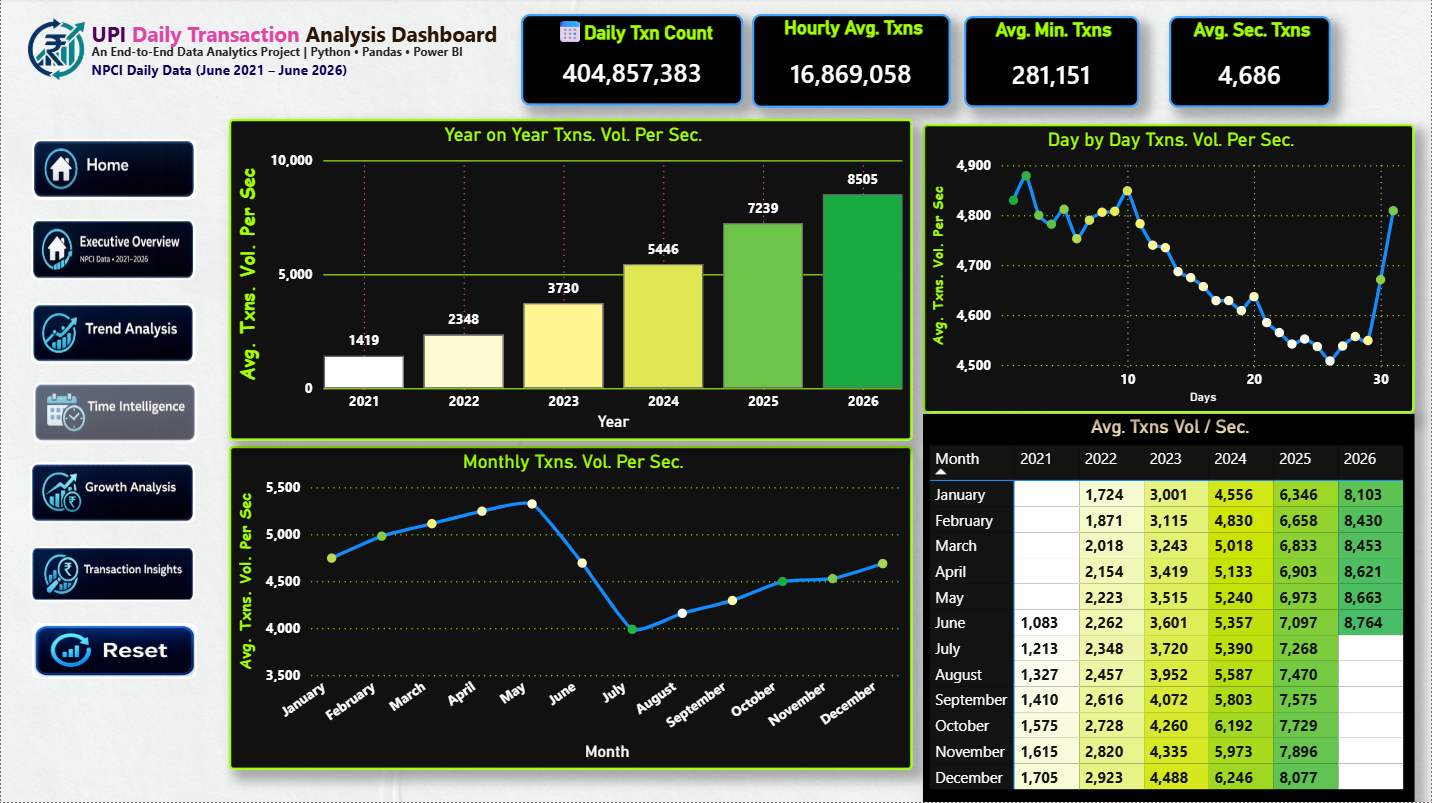

What the dashboard file says about the page in this screenshot:
{"tool":"powerbi","page":{"name":"🕒 Time Intelligence","canvas":[1280,720],"ordinal":2},"visuals":[{"type":"group","id":"g1","title":"Group 1","box":[55.4,14.4,409.1,63.9],"z":0},{"type":"textbox","box":[55.4,14.4,409.1,38.1],"z":0,"group":"g1"},{"type":"image","box":[6.2,14.4,86,65.1],"z":1000},{"type":"textbox","box":[75.7,33.4,368,44.8],"z":1000,"group":"g1"},{"type":"actionButton","box":[27,198.2,147.5,55],"z":2000},{"type":"actionButton","box":[28.1,126.2,147.5,55],"z":3000},{"type":"actionButton","box":[26.5,273.5,147.5,55],"z":4000},{"type":"actionButton","box":[28.6,343.5,147.5,55],"z":5000},{"type":"actionButton","box":[26.1,490.4,147.5,50],"z":6000},{"type":"actionButton","box":[28.1,559.4,147.5,50],"z":7000},{"type":"actionButton","box":[25.7,415.4,148.1,55],"z":8000},{"type":"textbox","box":[308.8,618.1,662.5,101.9],"z":9000},{"type":"textbox","box":[399.4,215,659.4,228.1],"z":10000},{"type":"cardVisual","title":"📅Daily Txn Count","fields":{"Data":["UPI_Daily_Statistics_Clean.Avg. Daily Transactions"]},"box":[465.5,14,199.2,81.9],"z":11000},{"type":"cardVisual","title":"Hourly Avg. Txns","fields":{"Data":["UPI_Daily_Statistics_Clean.Avg. Hourly Transactions"]},"box":[672.1,14.6,178,83.6],"z":12000},{"type":"cardVisual","title":"Avg. Min. Txns","fields":{"Data":["UPI_Daily_Statistics_Clean.Avg. Min. Transactions"]},"box":[862.7,16.5,156.6,81.7],"z":13000},{"type":"pivotTable","title":"Avg. Txns Vol / Sec.","fields":{"Columns":["UPI_Daily_Statistics_Clean.Date.Variation.Date Hierarchy.Year"],"Rows":["UPI_Daily_Statistics_Clean.Date.Variation.Date Hierarchy.Month"],"Values":["UPI_Daily_Statistics_Clean.Avg. Sec. Transactions"]},"box":[826,372.1,440.1,347.6],"z":14000},{"type":"lineChart","title":"Day by Day Txns. Vol. Per Sec.","fields":{"Category":["UPI_Daily_Statistics_Clean.Date.Variation.Date Hierarchy.Day"],"Y":["UPI_Daily_Statistics_Clean.Avg. Sec. Transactions chart"]},"box":[826,112.7,440.1,259.4],"z":15000},{"type":"stackedAreaChart","title":"Monthly Txns. Vol. Per Sec.","fields":{"Category":["UPI_Daily_Statistics_Clean.Date.Variation.Date Hierarchy.Month"],"Y":["UPI_Daily_Statistics_Clean.Avg. Sec. Transactions chart"]},"box":[204.1,400.8,612.4,290.2],"z":16000},{"type":"cardVisual","title":"Avg. Sec. Txns","fields":{"Data":["UPI_Daily_Statistics_Clean.Avg. Sec. Transactions"]},"box":[1045.6,16.5,144.9,81.7],"z":17000},{"type":"columnChart","title":"Year on Year Txns. Vol. Per Sec.","fields":{"Category":["UPI_Daily_Statistics_Clean.Date.Variation.Date Hierarchy.Year"],"Y":["UPI_Daily_Statistics_Clean.Avg. Sec. Transactions chart"]},"box":[204.1,108.4,612.4,288.1],"z":18000}]}

Visuals, with their boxes in screenshot pixels (x1, y1, x2, y2), scaled from the page's 1280x720 canvas onto the 1432x803 screenshot:
"Group 1" group: x1=62, y1=16, x2=520, y2=87
textbox: x1=62, y1=16, x2=520, y2=59
image: x1=7, y1=16, x2=103, y2=89
textbox: x1=85, y1=37, x2=496, y2=87
actionButton: x1=30, y1=221, x2=195, y2=282
actionButton: x1=31, y1=141, x2=196, y2=202
actionButton: x1=30, y1=305, x2=195, y2=366
actionButton: x1=32, y1=383, x2=197, y2=444
actionButton: x1=29, y1=547, x2=194, y2=603
actionButton: x1=31, y1=624, x2=196, y2=680
actionButton: x1=29, y1=463, x2=194, y2=525
textbox: x1=345, y1=689, x2=1087, y2=802
textbox: x1=447, y1=240, x2=1185, y2=494
"📅Daily Txn Count" cardVisual: x1=521, y1=16, x2=744, y2=107
"Hourly Avg. Txns" cardVisual: x1=752, y1=16, x2=951, y2=110
"Avg. Min. Txns" cardVisual: x1=965, y1=18, x2=1140, y2=110
"Avg. Txns Vol / Sec." pivotTable: x1=924, y1=415, x2=1416, y2=802
"Day by Day Txns. Vol. Per Sec." lineChart: x1=924, y1=126, x2=1416, y2=415
"Monthly Txns. Vol. Per Sec." stackedAreaChart: x1=228, y1=447, x2=913, y2=771
"Avg. Sec. Txns" cardVisual: x1=1170, y1=18, x2=1332, y2=110
"Year on Year Txns. Vol. Per Sec." columnChart: x1=228, y1=121, x2=913, y2=442
